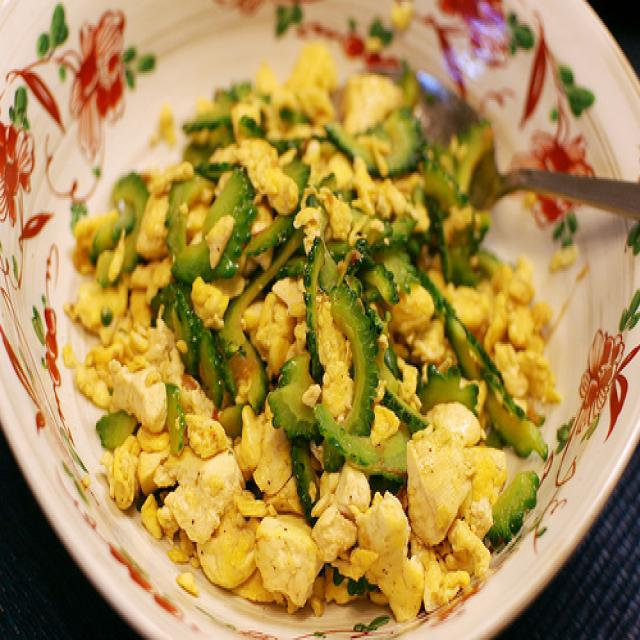熟制海鲜: (0, 4, 628, 640)
